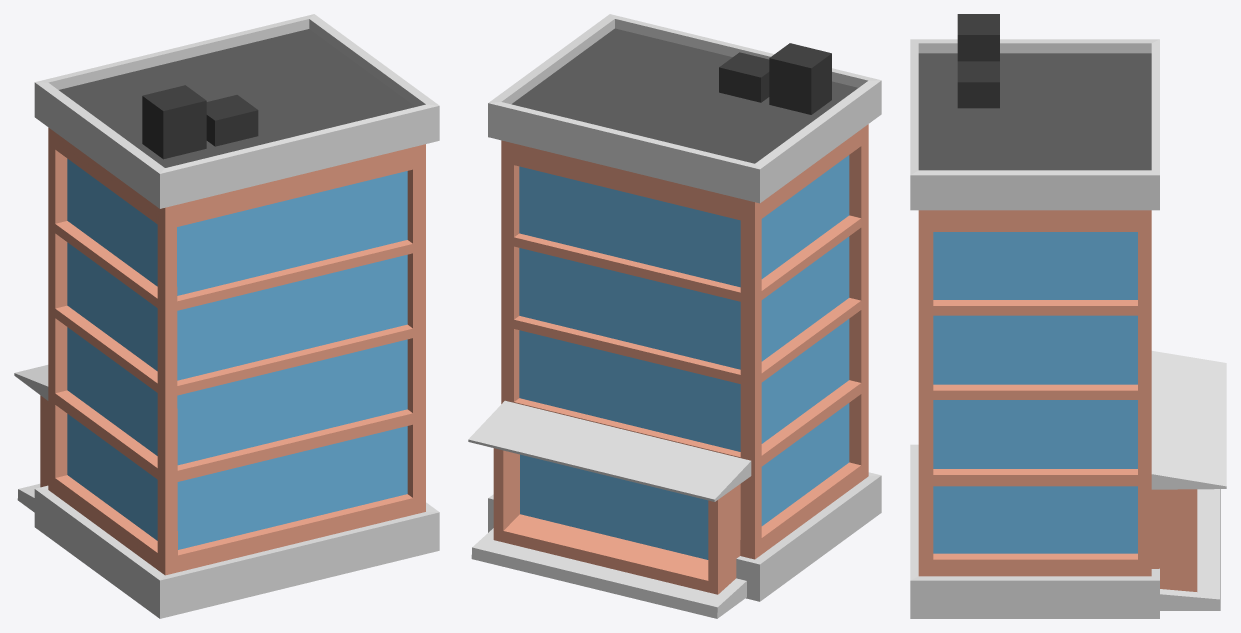
File: House_2.fbx
3 views of the same model, side by side, from view 1: azimuth 30°, elevation 25°; view 2: azimuth 150°, elevation 25°; view 3: azimuth 270°, elevation 25° (orthographic). The views are drawn at different scales.
Parts seen in each view (by area): view 1: House_3; view 2: House_3; view 3: House_3.
Boxes of the visible parts, left/top/right/bottom form: House_3: left=14, top=14, right=439, bottom=618; House_3: left=468, top=14, right=881, bottom=618; House_3: left=910, top=14, right=1226, bottom=618.
Size of the model in its own units: 6636 by 10962 by 6525.
Materials: 1 (1 with a texture image).
